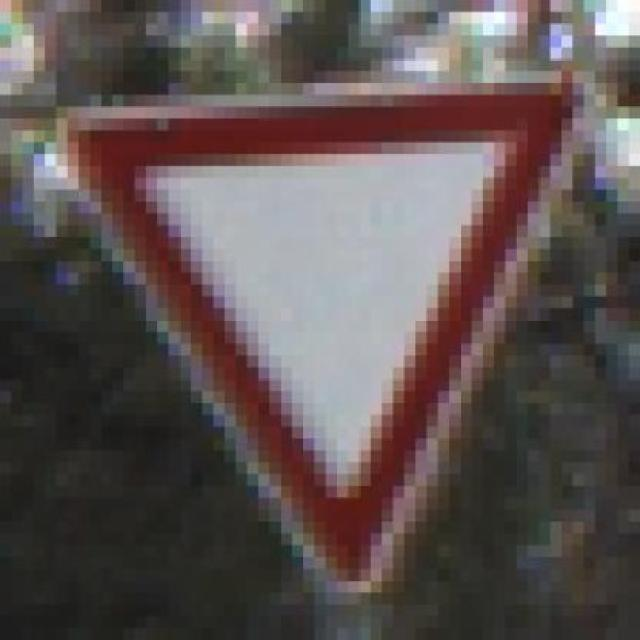Give Way: (45, 71, 618, 592)
